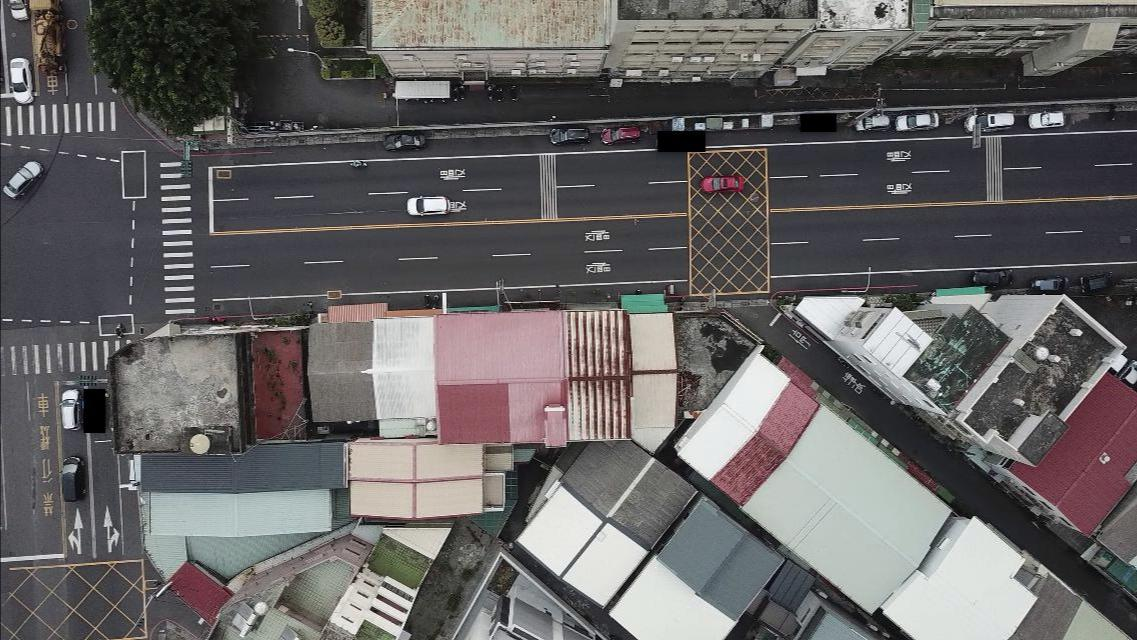vehicle: (2, 159, 45, 199), (60, 453, 85, 504), (9, 56, 34, 105), (405, 194, 451, 216), (965, 112, 1015, 132), (895, 111, 940, 133), (59, 387, 80, 432), (383, 132, 426, 152), (699, 174, 743, 193), (600, 126, 641, 146), (1029, 111, 1068, 132), (971, 269, 1016, 287), (1029, 277, 1070, 295), (550, 127, 591, 145), (855, 112, 890, 131)
